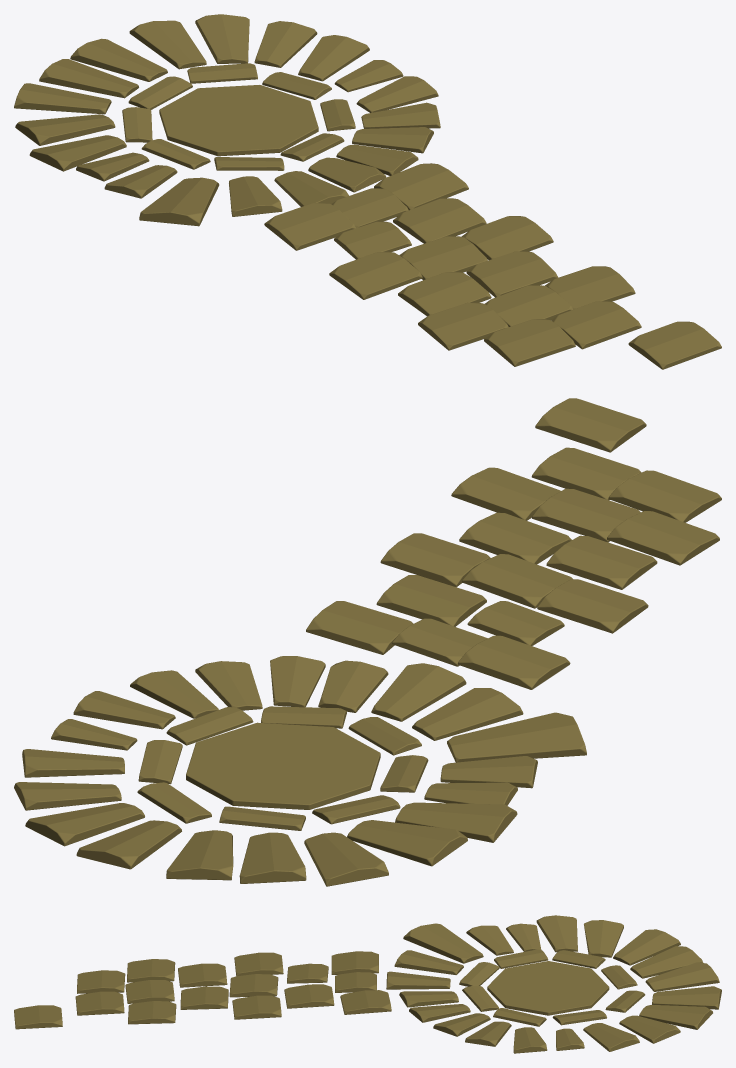
The model's file is OutsideFloorTiles_high.fbx.
The picture shows the model from 3 angles, top to bottom: view 1: azimuth 30°, elevation 25°; view 2: azimuth 150°, elevation 25°; view 3: azimuth 270°, elevation 25°; orthographic projection. The views are drawn at different scales.
Visible parts, largest first — view 1: Tile_high; view 2: Tile_high; view 3: Tile_high.
Part boxes in pixels (left/top/right/bottom): Tile_high: left=14, top=14, right=721, bottom=369; Tile_high: left=14, top=398, right=721, bottom=886; Tile_high: left=14, top=915, right=721, bottom=1053.
Bounding box in the file's own units: 130 × 7.92 × 293.
